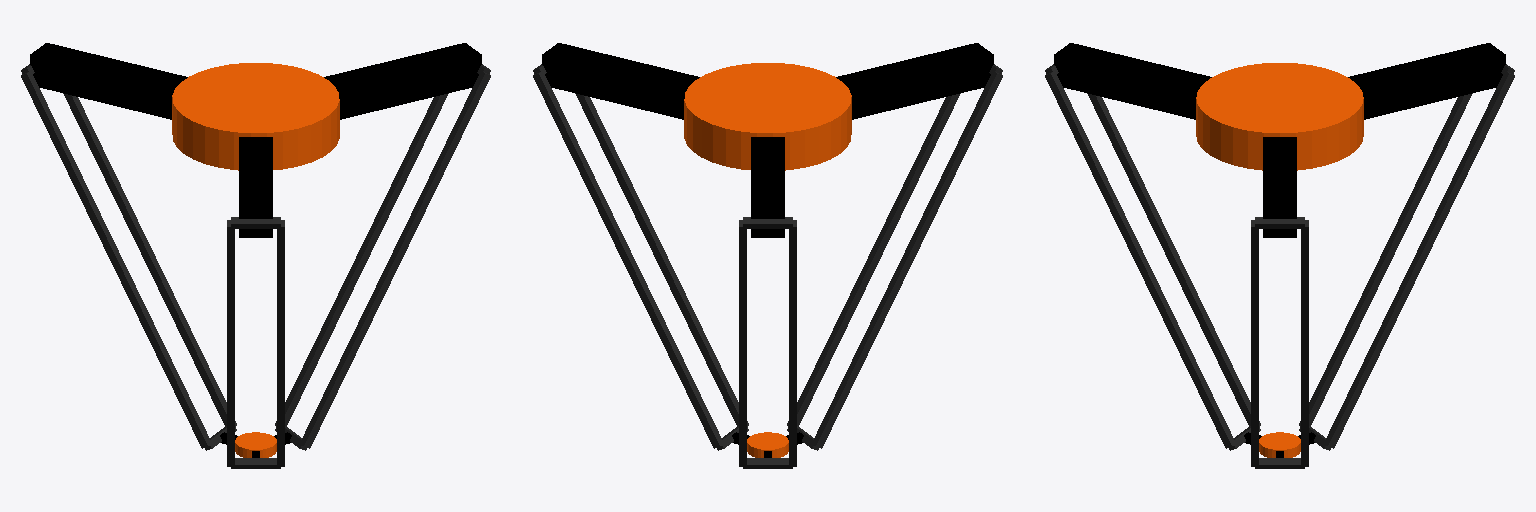
--- Render facts (derived) ---
The picture shows the robot from 3 angles, left to right: view 1: azimuth 30°, elevation 25°; view 2: azimuth 150°, elevation 25°; view 3: azimuth 270°, elevation 25°; orthographic projection.
Model delta with 29 links and 28 joints (3 revolute, 18 continuous, 7 fixed), rooted at world, posed all joints at 0.
Links seen in each view (by area): view 1: base_link, front_upper_link, left_upper_link, front_lower_right_link, left_lower_left_link, front_lower_left_link, left_lower_right_link, right_upper_link, right_lower_right_link, right_lower_left_link, end_link; view 2: base_link, front_upper_link, right_upper_link, front_lower_left_link, right_lower_right_link, front_lower_right_link, right_lower_left_link, left_upper_link, left_lower_right_link, left_lower_left_link, end_link; view 3: base_link, right_upper_link, left_upper_link, right_lower_left_link, left_lower_right_link, right_lower_right_link, left_lower_left_link, front_upper_link, front_lower_right_link, front_lower_left_link, end_link.
Boxes of the visible links, box(x1,y1,x2,y2) form: base_link: box(172, 63, 339, 170); front_upper_link: box(324, 43, 481, 119); left_upper_link: box(30, 43, 187, 119); front_lower_right_link: box(300, 71, 490, 448); left_lower_left_link: box(21, 71, 211, 448); front_lower_left_link: box(275, 93, 448, 426); left_lower_right_link: box(63, 93, 236, 426); right_upper_link: box(239, 137, 272, 237); right_lower_right_link: box(227, 220, 234, 466); right_lower_left_link: box(277, 220, 284, 466); end_link: box(235, 432, 276, 457); base_link: box(684, 63, 851, 170); front_upper_link: box(542, 43, 699, 119); right_upper_link: box(836, 43, 993, 119); front_lower_left_link: box(533, 71, 723, 448); right_lower_right_link: box(812, 71, 1002, 448); front_lower_right_link: box(575, 93, 748, 426); right_lower_left_link: box(787, 93, 960, 426); left_upper_link: box(751, 137, 784, 237); left_lower_right_link: box(739, 220, 746, 466); left_lower_left_link: box(789, 220, 796, 466); end_link: box(747, 432, 788, 457); base_link: box(1196, 63, 1363, 170); right_upper_link: box(1054, 43, 1211, 119); left_upper_link: box(1348, 43, 1505, 119); right_lower_left_link: box(1045, 71, 1235, 448); left_lower_right_link: box(1324, 71, 1514, 448); right_lower_right_link: box(1087, 93, 1260, 426); left_lower_left_link: box(1299, 93, 1472, 426); front_upper_link: box(1263, 137, 1296, 237); front_lower_right_link: box(1251, 220, 1258, 466); front_lower_left_link: box(1301, 220, 1308, 466); end_link: box(1259, 432, 1300, 457).
Size in the robot's own frame: 0.4893 by 0.5621 by 0.4648 metres.
Geometry: primitives only (box / cylinder / sphere), no mesh files.

robot.urdf — delta:
<?xml version="1.0" ?>
<!-- =================================================================================== -->
<!-- |    This document was autogenerated by xacro from delta.urdf.xacro               | -->
<!-- |    EDITING THIS FILE BY HAND IS NOT RECOMMENDED                                 | -->
<!-- =================================================================================== -->
<!-- Revolute-Revolute Manipulator -->
<robot name="delta">
  <!-- base and end links -->
  <!-- Upper link -->
  <physics type="ode">
    <max_step_size>0.001</max_step_size>
    <real_time_factor>0.1</real_time_factor>
    <real_time_update_rate>1000</real_time_update_rate>
    <gravity>0 0 -9.8</gravity>
  </physics>
  <gazebo>
    <plugin filename="libgazebo_ros_control.so" name="gazebo_ros_control">
      <robotNamespace/>
      <robotSimType>gazebo_ros_control/DefaultRobotHWSim</robotSimType>
      <legacyModeNS>true</legacyModeNS>
    </plugin>
  </gazebo>
  <gazebo reference="base_link">
    <material>Gazebo/Orange</material>
    <selfCollide>false</selfCollide>
  </gazebo>
  <gazebo reference="end_link">
    <material>Gazebo/Orange</material>
    <selfCollide>false</selfCollide>
  </gazebo>
  <transmission name="front_delta_arm_joint_trans">
    <type>transmission_interface/SimpleTransmission</type>
    <joint name="front_delta_arm_joint">
      <hardwareInterface>hardware_interface/EffortJointInterface</hardwareInterface>
    </joint>
    <actuator name="front_delta_arm_joint_motor">
      <hardwareInterface>hardware_interface/EffortJointInterface</hardwareInterface>
      <mechanicalReduction>1</mechanicalReduction>
    </actuator>
  </transmission>
  <transmission name="right_delta_arm_joint_trans">
    <type>transmission_interface/SimpleTransmission</type>
    <joint name="right_delta_arm_joint">
      <hardwareInterface>hardware_interface/EffortJointInterface</hardwareInterface>
    </joint>
    <actuator name="right_delta_arm_joint_motor">
      <hardwareInterface>hardware_interface/EffortJointInterface</hardwareInterface>
      <mechanicalReduction>1</mechanicalReduction>
    </actuator>
  </transmission>
  <transmission name="left_delta_arm_joint_trans">
    <type>transmission_interface/SimpleTransmission</type>
    <joint name="left_delta_arm_joint">
      <hardwareInterface>hardware_interface/EffortJointInterface</hardwareInterface>
    </joint>
    <actuator name="left_delta_arm_joint_motor">
      <hardwareInterface>hardware_interface/EffortJointInterface</hardwareInterface>
      <mechanicalReduction>1</mechanicalReduction>
    </actuator>
  </transmission>
  <material name="black">
    <color rgba="0.0 0.0 0.0 1.0"/>
  </material>
  <material name="blue">
    <color rgba="0.0 0.0 0.8 1.0"/>
  </material>
  <material name="green">
    <color rgba="0.0 0.8 0.0 1.0"/>
  </material>
  <material name="grey">
    <color rgba="0.2 0.2 0.2 1.0"/>
  </material>
  <material name="orange">
    <color rgba="1.0 0.4235294117647059 0.0392156862745098 1.0"/>
  </material>
  <material name="brown">
    <color rgba="0.8705882352941177 0.8117647058823529 0.7647058823529411 1.0"/>
  </material>
  <material name="red">
    <color rgba="0.8 0.0 0.0 1.0"/>
  </material>
  <material name="white">
    <color rgba="1.0 1.0 1.0 1.0"/>
  </material>
  <!-- Used for fixing robot to Gazebo 'base_link' -->
  <link name="world"/>
  <joint name="fixed" type="fixed">
    <parent link="world"/>
    <child link="base_link"/>
    <origin rpy="0 0 0" xyz="0 0 2"/>
  </joint>
  <link name="base_link">
    <collision>
      <origin rpy="0 0 0" xyz="0 0 0"/>
      <geometry>
        <cylinder length="0.05" radius="0.1"/>
      </geometry>
    </collision>
    <visual>
      <origin rpy="0 0 0" xyz="0 0 0"/>
      <geometry>
        <cylinder length="0.05" radius="0.1"/>
      </geometry>
      <material name="orange">
        <color rgba="1.0 0.4235294117647059 0.0392156862745098 1.0"/>
      </material>
    </visual>
    <inertial>
      <origin rpy="0 0 0" xyz="0 0 0"/>
      <mass value="1"/>
      <inertia ixx="0.1" ixy="0.0" ixz="0.0" iyy="0.1" iyz="0.0" izz="0.1"/>
    </inertial>
  </link>
  <link name="front_upper_link">
    <collision>
      <origin rpy="0 0 0" xyz="0.1 0 0"/>
      <geometry>
        <box size="0.2 0.04 0.04"/>
      </geometry>
    </collision>
    <visual>
      <origin rpy="0 0 0" xyz="0.1 0 0"/>
      <geometry>
        <box size="0.2 0.04 0.04"/>
      </geometry>
      <material name="black">
        <color rgba="0.0 0.0 0.0 1.0"/>
      </material>
    </visual>
    <inertial>
      <origin rpy="0 0 0" xyz="0 0 0.1"/>
      <mass value="0.02"/>
      <inertia ixx="5.333333333333334e-06" ixy="0.0" ixz="0.0" iyy="6.933333333333334e-05" iyz="0.0" izz="6.933333333333334e-05"/>
    </inertial>
  </link>
  <joint name="front_upper_joint" type="continuous">
    <parent link="front_upper_link"/>
    <child link="front_lower_top_link"/>
    <origin rpy="0 0.5235987755982988 0" xyz="0.2 0 0"/>
    <axis xyz="0 1 0"/>
  </joint>
  <link name="front_lower_top_link">
    <collision>
      <origin rpy="0 0 0" xyz="0 0 0"/>
      <geometry>
        <box size="0.01 0.06 0.01"/>
      </geometry>
    </collision>
    <visual>
      <origin rpy="0 0 0" xyz="0 0 0"/>
      <geometry>
        <box size="0.01 0.06 0.01"/>
      </geometry>
      <material name="grey">
        <color rgba="0.2 0.2 0.2 1.0"/>
      </material>
    </visual>
    <inertial>
      <origin rpy="0 0 0" xyz="0 0 0"/>
      <mass value="0.02"/>
      <inertia ixx="6.166666666666666e-06" ixy="0.0" ixz="0.0" iyy="3.3333333333333335e-07" iyz="0.0" izz="6.166666666666666e-06"/>
    </inertial>
  </link>
  <joint name="front_lower_top_rignt_joint" type="continuous">
    <parent link="front_lower_top_link"/>
    <child link="front_lower_right_link"/>
    <origin rpy="0 0 0" xyz="0 -0.03 0"/>
    <axis xyz="1 0 0"/>
  </joint>
  <link name="front_lower_right_link">
    <collision>
      <origin rpy="0 0 0" xyz="0 0 -0.25"/>
      <geometry>
        <box size="0.01 0.01 0.5"/>
      </geometry>
    </collision>
    <visual>
      <origin rpy="0 0 0" xyz="0 0 -0.25"/>
      <geometry>
        <box size="0.01 0.01 0.5"/>
      </geometry>
      <material name="grey">
        <color rgba="0.2 0.2 0.2 1.0"/>
      </material>
    </visual>
    <inertial>
      <origin rpy="0 0 0" xyz="0 0 -0.25"/>
      <mass value="0.02"/>
      <inertia ixx="0.00041683333333333335" ixy="0.0" ixz="0.0" iyy="0.00041683333333333335" iyz="0.0" izz="3.3333333333333335e-07"/>
    </inertial>
  </link>
  <joint name="front_lower_top_left_joint" type="continuous">
    <parent link="front_lower_top_link"/>
    <child link="front_lower_left_link"/>
    <origin rpy="0 0 0" xyz="0 0.03 0"/>
    <axis xyz="1 0 0"/>
  </joint>
  <link name="front_lower_left_link">
    <collision>
      <origin rpy="0 0 0" xyz="0 0 -0.25"/>
      <geometry>
        <box size="0.01 0.01 0.5"/>
      </geometry>
    </collision>
    <visual>
      <origin rpy="0 0 0" xyz="0 0 -0.25"/>
      <geometry>
        <box size="0.01 0.01 0.5"/>
      </geometry>
      <material name="grey">
        <color rgba="0.2 0.2 0.2 1.0"/>
      </material>
    </visual>
    <inertial>
      <origin rpy="0 0 0" xyz="0 0 -0.25"/>
      <mass value="0.02"/>
      <inertia ixx="0.00041683333333333335" ixy="0.0" ixz="0.0" iyy="0.00041683333333333335" iyz="0.0" izz="3.3333333333333335e-07"/>
    </inertial>
  </link>
  <joint name="front_lower_right_bottom_joint" type="continuous">
    <parent link="front_lower_right_link"/>
    <child link="front_lower_bottom_link"/>
    <origin rpy="0 0 0" xyz="0 0 -0.5"/>
    <axis xyz="1 0 0"/>
  </joint>
  <link name="front_lower_bottom_link">
    <collision>
      <origin rpy="0 0 0" xyz="0 0.03 0"/>
      <geometry>
        <box size="0.01 0.06 0.01"/>
      </geometry>
    </collision>
    <visual>
      <origin rpy="0 0 0" xyz="0 0.03 0"/>
      <geometry>
        <box size="0.01 0.06 0.01"/>
      </geometry>
      <material name="grey">
        <color rgba="0.2 0.2 0.2 1.0"/>
      </material>
    </visual>
    <inertial>
      <origin rpy="0 0 0" xyz="0 0.03 0"/>
      <mass value="0.02"/>
      <inertia ixx="6.166666666666666e-06" ixy="0.0" ixz="0.0" iyy="6.166666666666666e-06" iyz="0.0" izz="3.3333333333333335e-07"/>
    </inertial>
  </link>
  <joint name="front_lower_bottom_end_joint" type="continuous">
    <parent link="front_lower_bottom_link"/>
    <child link="front_lower_end_link"/>
    <origin rpy="0 -0.5235987755982988 0" xyz="0 0.03 0"/>
    <axis xyz="0 1 0"/>
  </joint>
  <link name="front_lower_end_link">
    <collision>
      <origin rpy="0 0 0" xyz="-0.015 0 0"/>
      <geometry>
        <box size="0.03 0.01 0.01"/>
      </geometry>
    </collision>
    <visual>
      <origin rpy="0 0 0" xyz="-0.015 0 0"/>
      <geometry>
        <box size="0.03 0.01 0.01"/>
      </geometry>
      <material name="black">
        <color rgba="0.0 0.0 0.0 1.0"/>
      </material>
    </visual>
    <inertial>
      <origin rpy="0 0 0" xyz="-0.015 0 0"/>
      <mass value="0.02"/>
      <inertia ixx="3.3333333333333335e-07" ixy="0.0" ixz="0.0" iyy="1.6666666666666669e-06" iyz="0.0" izz="1.6666666666666669e-06"/>
    </inertial>
  </link>
  <joint name="front_lower_bottom_virtual_joint" type="continuous">
    <parent link="front_lower_bottom_link"/>
    <child link="front_lower_bottom_virtual_link"/>
    <origin rpy="0 0 0" xyz="0 0.06 0"/>
    <axis xyz="1 0 0"/>
  </joint>
  <link name="front_lower_bottom_virtual_link">
    <inertial>
      <origin rpy="0 0 0" xyz="0 0 0"/>
      <mass value="0.01"/>
      <inertia ixx="0.001" ixy="0.0" ixz="0.0" iyy="0.001" iyz="0.0" izz="0.001"/>
    </inertial>
  </link>
  <joint name="front_lower_left_virtual_joint" type="fixed">
    <parent link="front_lower_left_link"/>
    <child link="front_lower_left_virtual_link"/>
    <origin rpy="0 0 0" xyz="0 0 -0.5"/>
  </joint>
  <link name="front_lower_left_virtual_link">
    <inertial>
      <origin rpy="0 0 0" xyz="0 0 0"/>
      <mass value="0.01"/>
      <inertia ixx="0.001" ixy="0.0" ixz="0.0" iyy="0.001" iyz="0.0" izz="0.001"/>
    </inertial>
  </link>
  <gazebo>
    <joint name="front_lower_left_bottom_joint" type="fixed">
      <parent>front_lower_left_virtual_link</parent>
      <child>front_lower_bottom_virtual_link</child>
      <pose> 0 0 0 0 0 0 </pose>
    </joint>
  </gazebo>
  <gazebo reference="front_upper_link">
    <material>Gazebo/Black</material>
    <selfCollide>false</selfCollide>
  </gazebo>
  <gazebo reference="front_lower_top_link">
    <material>Gazebo/Grey</material>
    <selfCollide>false</selfCollide>
  </gazebo>
  <gazebo reference="front_lower_right_link">
    <material>Gazebo/Grey</material>
    <selfCollide>false</selfCollide>
  </gazebo>
  <gazebo reference="front_lower_left_link">
    <material>Gazebo/Grey</material>
    <selfCollide>false</selfCollide>
  </gazebo>
  <gazebo reference="front_lower_bottom_link">
    <material>Gazebo/Grey</material>
    <selfCollide>false</selfCollide>
  </gazebo>
  <gazebo reference="front_lower_end_link">
    <material>Gazebo/Black</material>
    <selfCollide>false</selfCollide>
  </gazebo>
  <transmission name="front_upper_joint_trans">
    <type>transmission_interface/SimpleTransmission</type>
    <joint name="front_upper_joint">
      <hardwareInterface>hardware_interface/EffortJointInterface</hardwareInterface>
    </joint>
    <actuator name="front_upper_joint_motor">
      <hardwareInterface>hardware_interface/EffortJointInterface</hardwareInterface>
      <mechanicalReduction>1</mechanicalReduction>
    </actuator>
  </transmission>
  <transmission name="front_lower_top_rignt_joint_trans">
    <type>transmission_interface/SimpleTransmission</type>
    <joint name="front_lower_top_rignt_joint">
      <hardwareInterface>hardware_interface/EffortJointInterface</hardwareInterface>
    </joint>
    <actuator name="front_lower_top_rignt_joint_motor">
      <hardwareInterface>hardware_interface/EffortJointInterface</hardwareInterface>
      <mechanicalReduction>1</mechanicalReduction>
    </actuator>
  </transmission>
  <transmission name="front_lower_top_left_joint_trans">
    <type>transmission_interface/SimpleTransmission</type>
    <joint name="front_lower_top_left_joint">
      <hardwareInterface>hardware_interface/EffortJointInterface</hardwareInterface>
    </joint>
    <actuator name="front_lower_top_left_joint_motor">
      <hardwareInterface>hardware_interface/EffortJointInterface</hardwareInterface>
      <mechanicalReduction>1</mechanicalReduction>
    </actuator>
  </transmission>
  <transmission name="front_lower_right_bottom_joint_trans">
    <type>transmission_interface/SimpleTransmission</type>
    <joint name="front_lower_right_bottom_joint">
      <hardwareInterface>hardware_interface/EffortJointInterface</hardwareInterface>
    </joint>
    <actuator name="front_lower_right_bottom_joint_motor">
      <hardwareInterface>hardware_interface/EffortJointInterface</hardwareInterface>
      <mechanicalReduction>1</mechanicalReduction>
    </actuator>
  </transmission>
  <transmission name="front_lower_bottom_end_joint_trans">
    <type>transmission_interface/SimpleTransmission</type>
    <joint name="front_lower_bottom_end_joint">
      <hardwareInterface>hardware_interface/EffortJointInterface</hardwareInterface>
    </joint>
    <actuator name="front_lower_bottom_end_joint_motor">
      <hardwareInterface>hardware_interface/EffortJointInterface</hardwareInterface>
      <mechanicalReduction>1</mechanicalReduction>
    </actuator>
  </transmission>
  <transmission name="front_lower_bottom_virtual_joint_trans">
    <type>transmission_interface/SimpleTransmission</type>
    <joint name="front_lower_bottom_virtual_joint">
      <hardwareInterface>hardware_interface/EffortJointInterface</hardwareInterface>
    </joint>
    <actuator name="front_lower_bottom_virtual_joint_motor">
      <hardwareInterface>hardware_interface/EffortJointInterface</hardwareInterface>
      <mechanicalReduction>1</mechanicalReduction>
    </actuator>
  </transmission>
  <joint name="front_delta_arm_joint" type="revolute">
    <parent link="base_link"/>
    <child link="front_upper_link"/>
    <origin rpy="0 0 0" xyz="0.1 0 0"/>
    <axis xyz="0 1 0"/>
    <dynamics damping="0.7"/>
    <limit effort="6" lower="-1.0471975511965976" upper="1.0471975511965976" velocity="8"/>
  </joint>
  <link name="right_upper_link">
    <collision>
      <origin rpy="0 0 0" xyz="0.1 0 0"/>
      <geometry>
        <box size="0.2 0.04 0.04"/>
      </geometry>
    </collision>
    <visual>
      <origin rpy="0 0 0" xyz="0.1 0 0"/>
      <geometry>
        <box size="0.2 0.04 0.04"/>
      </geometry>
      <material name="black">
        <color rgba="0.0 0.0 0.0 1.0"/>
      </material>
    </visual>
    <inertial>
      <origin rpy="0 0 0" xyz="0 0 0.1"/>
      <mass value="0.02"/>
      <inertia ixx="5.333333333333334e-06" ixy="0.0" ixz="0.0" iyy="6.933333333333334e-05" iyz="0.0" izz="6.933333333333334e-05"/>
    </inertial>
  </link>
  <joint name="right_upper_joint" type="continuous">
    <parent link="right_upper_link"/>
    <child link="right_lower_top_link"/>
    <origin rpy="0 0.5235987755982988 0" xyz="0.2 0 0"/>
    <axis xyz="0 1 0"/>
  </joint>
  <link name="right_lower_top_link">
    <collision>
      <origin rpy="0 0 0" xyz="0 0 0"/>
      <geometry>
        <box size="0.01 0.06 0.01"/>
      </geometry>
    </collision>
    <visual>
      <origin rpy="0 0 0" xyz="0 0 0"/>
      <geometry>
        <box size="0.01 0.06 0.01"/>
      </geometry>
      <material name="grey">
        <color rgba="0.2 0.2 0.2 1.0"/>
      </material>
    </visual>
    <inertial>
      <origin rpy="0 0 0" xyz="0 0 0"/>
      <mass value="0.02"/>
      <inertia ixx="6.166666666666666e-06" ixy="0.0" ixz="0.0" iyy="3.3333333333333335e-07" iyz="0.0" izz="6.166666666666666e-06"/>
    </inertial>
  </link>
  <joint name="right_lower_top_rignt_joint" type="continuous">
    <parent link="right_lower_top_link"/>
    <child link="right_lower_right_link"/>
    <origin rpy="0 0 0" xyz="0 -0.03 0"/>
    <axis xyz="1 0 0"/>
  </joint>
  <link name="right_lower_right_link">
    <collision>
      <origin rpy="0 0 0" xyz="0 0 -0.25"/>
      <geometry>
        <box size="0.01 0.01 0.5"/>
      </geometry>
    </collision>
    <visual>
      <origin rpy="0 0 0" xyz="0 0 -0.25"/>
      <geometry>
        <box size="0.01 0.01 0.5"/>
      </geometry>
      <material name="grey">
        <color rgba="0.2 0.2 0.2 1.0"/>
      </material>
    </visual>
    <inertial>
      <origin rpy="0 0 0" xyz="0 0 -0.25"/>
      <mass value="0.02"/>
      <inertia ixx="0.00041683333333333335" ixy="0.0" ixz="0.0" iyy="0.00041683333333333335" iyz="0.0" izz="3.3333333333333335e-07"/>
    </inertial>
  </link>
  <joint name="right_lower_top_left_joint" type="continuous">
    <parent link="right_lower_top_link"/>
    <child link="right_lower_left_link"/>
    <origin rpy="0 0 0" xyz="0 0.03 0"/>
    <axis xyz="1 0 0"/>
  </joint>
  <link name="right_lower_left_link">
    <collision>
      <origin rpy="0 0 0" xyz="0 0 -0.25"/>
      <geometry>
        <box size="0.01 0.01 0.5"/>
      </geometry>
    </collision>
    <visual>
      <origin rpy="0 0 0" xyz="0 0 -0.25"/>
      <geometry>
        <box size="0.01 0.01 0.5"/>
      </geometry>
      <material name="grey">
        <color rgba="0.2 0.2 0.2 1.0"/>
      </material>
    </visual>
    <inertial>
      <origin rpy="0 0 0" xyz="0 0 -0.25"/>
      <mass value="0.02"/>
      <inertia ixx="0.00041683333333333335" ixy="0.0" ixz="0.0" iyy="0.00041683333333333335" iyz="0.0" izz="3.3333333333333335e-07"/>
    </inertial>
  </link>
  <joint name="right_lower_right_bottom_joint" type="continuous">
    <parent link="right_lower_right_link"/>
    <child link="right_lower_bottom_link"/>
    <origin rpy="0 0 0" xyz="0 0 -0.5"/>
    <axis xyz="1 0 0"/>
  </joint>
  <link name="right_lower_bottom_link">
    <collision>
      <origin rpy="0 0 0" xyz="0 0.03 0"/>
      <geometry>
        <box size="0.01 0.06 0.01"/>
      </geometry>
    </collision>
    <visual>
      <origin rpy="0 0 0" xyz="0 0.03 0"/>
      <geometry>
        <box size="0.01 0.06 0.01"/>
      </geometry>
      <material name="grey">
        <color rgba="0.2 0.2 0.2 1.0"/>
      </material>
    </visual>
    <inertial>
      <origin rpy="0 0 0" xyz="0 0.03 0"/>
      <mass value="0.02"/>
      <inertia ixx="6.166666666666666e-06" ixy="0.0" ixz="0.0" iyy="6.166666666666666e-06" iyz="0.0" izz="3.3333333333333335e-07"/>
    </inertial>
  </link>
  <joint name="right_lower_bottom_end_joint" type="continuous">
    <parent link="right_lower_bottom_link"/>
    <child link="right_lower_end_link"/>
    <origin rpy="0 -0.5235987755982988 0" xyz="0 0.03 0"/>
    <axis xyz="0 1 0"/>
  </joint>
  <link name="right_lower_end_link">
    <collision>
      <origin rpy="0 0 0" xyz="-0.015 0 0"/>
      <geometry>
        <box size="0.03 0.01 0.01"/>
      </geometry>
    </collision>
    <visual>
      <origin rpy="0 0 0" xyz="-0.015 0 0"/>
      <geometry>
        <box size="0.03 0.01 0.01"/>
      </geometry>
      <material name="black">
        <color rgba="0.0 0.0 0.0 1.0"/>
      </material>
    </visual>
    <inertial>
      <origin rpy="0 0 0" xyz="-0.015 0 0"/>
      <mass value="0.02"/>
      <inertia ixx="3.3333333333333335e-07" ixy="0.0" ixz="0.0" iyy="1.6666666666666669e-06" iyz="0.0" izz="1.6666666666666669e-06"/>
    </inertial>
  </link>
  <joint name="right_lower_bottom_virtual_joint" type="continuous">
    <parent link="right_lower_bottom_link"/>
    <child link="right_lower_bottom_virtual_link"/>
    <origin rpy="0 0 0" xyz="0 0.06 0"/>
    <axis xyz="1 0 0"/>
  </joint>
  <link name="right_lower_bottom_virtual_link">
    <inertial>
      <origin rpy="0 0 0" xyz="0 0 0"/>
      <mass value="0.01"/>
      <inertia ixx="0.001" ixy="0.0" ixz="0.0" iyy="0.001" iyz="0.0" izz="0.001"/>
    </inertial>
  </link>
  <joint name="right_lower_left_virtual_joint" type="fixed">
    <parent link="right_lower_left_link"/>
    <child link="right_lower_left_virtual_link"/>
    <origin rpy="0 0 0" xyz="0 0 -0.5"/>
  </joint>
  <link name="right_lower_left_virtual_link">
    <inertial>
      <origin rpy="0 0 0" xyz="0 0 0"/>
      <mass value="0.01"/>
      <inertia ixx="0.001" ixy="0.0" ixz="0.0" iyy="0.001" iyz="0.0" izz="0.001"/>
    </inertial>
  </link>
  <gazebo>
    <joint name="right_lower_left_bottom_joint" type="fixed">
      <parent>right_lower_left_virtual_link</parent>
      <child>right_lower_bottom_virtual_link</child>
      <pose> 0 0 0 0 0 0 </pose>
    </joint>
  </gazebo>
  <gazebo reference="right_upper_link">
    <material>Gazebo/Black</material>
    <selfCollide>false</selfCollide>
  </gazebo>
  <gazebo reference="right_lower_top_link">
    <material>Gazebo/Grey</material>
    <selfCollide>false</selfCollide>
  </gazebo>
  <gazebo reference="right_lower_right_link">
    <material>Gazebo/Grey</material>
    <selfCollide>false</selfCollide>
  </gazebo>
  <gazebo reference="right_lower_left_link">
    <material>Gazebo/Grey</material>
    <selfCollide>false</selfCollide>
  </gazebo>
  <gazebo reference="right_lower_bottom_link">
    <material>Gazebo/Grey</material>
    <selfCollide>false</selfCollide>
  </gazebo>
  <gazebo reference="right_lower_end_link">
    <material>Gazebo/Black</material>
    <selfCollide>false</selfCollide>
  </gazebo>
  <transmission name="right_upper_joint_trans">
    <type>transmission_interface/SimpleTransmission</type>
    <joint name="right_upper_joint">
      <hardwareInterface>hardware_interface/EffortJointInterface</hardwareInterface>
    </joint>
    <actuator name="right_upper_joint_motor">
      <hardwareInterface>hardware_interface/EffortJointInterface</hardwareInterface>
      <mechanicalReduction>1</mechanicalReduction>
    </actuator>
  </transmission>
  <transmission name="right_lower_top_rignt_joint_trans">
    <type>transmission_interface/SimpleTransmission</type>
    <joint name="right_lower_top_rignt_joint">
      <hardwareInterface>hardware_interface/EffortJointInterface</hardwareInterface>
    </joint>
    <actuator name="right_lower_top_rignt_joint_motor">
      <hardwareInterface>hardware_interface/EffortJointInterface</hardwareInterface>
      <mechanicalReduction>1</mechanicalReduction>
    </actuator>
  </transmission>
  <transmission name="right_lower_top_left_joint_trans">
    <type>transmission_interface/SimpleTransmission</type>
    <joint name="right_lower_top_left_joint">
      <hardwareInterface>hardware_interface/EffortJointInterface</hardwareInterface>
    </joint>
    <actuator name="right_lower_top_left_joint_motor">
      <hardwareInterface>hardware_interface/EffortJointInterface</hardwareInterface>
      <mechanicalReduction>1</mechanicalReduction>
    </actuator>
  </transmission>
  <transmission name="right_lower_right_bottom_joint_trans">
    <type>transmission_interface/SimpleTransmission</type>
    <joint name="right_lower_right_bottom_joint">
      <hardwareInterface>hardware_interface/EffortJointInterface</hardwareInterface>
    </joint>
    <actuator name="right_lower_right_bottom_joint_motor">
      <hardwareInterface>hardware_interface/EffortJointInterface</hardwareInterface>
      <mechanicalReduction>1</mechanicalReduction>
    </actuator>
  </transmission>
  <transmission name="right_lower_bottom_end_joint_trans">
    <type>transmission_interface/SimpleTransmission</type>
    <joint name="right_lower_bottom_end_joint">
      <hardwareInterface>hardware_interface/EffortJointInterface</hardwareInterface>
    </joint>
    <actuator name="right_lower_bottom_end_joint_motor">
      <hardwareInterface>hardware_interface/EffortJointInterface</hardwareInterface>
      <mechanicalReduction>1</mechanicalReduction>
    </actuator>
  </transmission>
  <transmission name="right_lower_bottom_virtual_joint_trans">
    <type>transmission_interface/SimpleTransmission</type>
    <joint name="right_lower_bottom_virtual_joint">
      <hardwareInterface>hardware_interface/EffortJointInterface</hardwareInterface>
    </joint>
    <actuator name="right_lower_bottom_virtual_joint_motor">
      <hardwareInterface>hardware_interface/EffortJointInterface</hardwareInterface>
      <mechanicalReduction>1</mechanicalReduction>
    </actuator>
  </transmission>
  <joint name="right_delta_arm_joint" type="revolute">
    <parent link="base_link"/>
    <child link="right_upper_link"/>
    <origin rpy="0 0 -2.0943951023931953" xyz="-0.05 -0.0866 0"/>
    <axis xyz="0 1 0"/>
    <dynamics damping="0.7"/>
    <limit effort="6" lower="-1.0471975511965976" upper="1.0471975511965976" velocity="8"/>
  </joint>
  <link name="left_upper_link">
    <collision>
      <origin rpy="0 0 0" xyz="0.1 0 0"/>
      <geometry>
        <box size="0.2 0.04 0.04"/>
      </geometry>
    </collision>
    <visual>
      <origin rpy="0 0 0" xyz="0.1 0 0"/>
      <geometry>
        <box size="0.2 0.04 0.04"/>
      </geometry>
      <material name="black">
        <color rgba="0.0 0.0 0.0 1.0"/>
      </material>
    </visual>
    <inertial>
      <origin rpy="0 0 0" xyz="0 0 0.1"/>
      <mass value="0.02"/>
      <inertia ixx="5.333333333333334e-06" ixy="0.0" ixz="0.0" iyy="6.933333333333334e-05" iyz="0.0" izz="6.933333333333334e-05"/>
    </inertial>
  </link>
  <joint name="left_upper_joint" type="continuous">
    <parent link="left_upper_link"/>
    <child link="left_lower_top_link"/>
    <origin rpy="0 0.5235987755982988 0" xyz="0.2 0 0"/>
    <axis xyz="0 1 0"/>
  </joint>
  <link name="left_lower_top_link">
    <collision>
      <origin rpy="0 0 0" xyz="0 0 0"/>
      <geometry>
        <box size="0.01 0.06 0.01"/>
      </geometry>
    </collision>
    <visual>
      <origin rpy="0 0 0" xyz="0 0 0"/>
      <geometry>
        <box size="0.01 0.06 0.01"/>
      </geometry>
      <material name="grey">
        <color rgba="0.2 0.2 0.2 1.0"/>
      </material>
    </visual>
    <inertial>
      <origin rpy="0 0 0" xyz="0 0 0"/>
      <mass value="0.02"/>
      <inertia ixx="6.166666666666666e-06" ixy="0.0" ixz="0.0" iyy="3.3333333333333335e-07" iyz="0.0" izz="6.166666666666666e-06"/>
    </inertial>
  </link>
  <joint name="left_lower_top_rignt_joint" type="continuous">
    <parent link="left_lower_top_link"/>
    <child link="left_lower_right_link"/>
    <origin rpy="0 0 0" xyz="0 -0.03 0"/>
    <axis xyz="1 0 0"/>
  </joint>
  <link name="left_lower_right_link">
    <collision>
      <origin rpy="0 0 0" xyz="0 0 -0.25"/>
      <geometry>
        <box size="0.01 0.01 0.5"/>
      </geometry>
    </collision>
    <visual>
      <origin rpy="0 0 0" xyz="0 0 -0.25"/>
      <geometry>
        <box size="0.01 0.01 0.5"/>
      </geometry>
      <material name="grey">
        <color rgba="0.2 0.2 0.2 1.0"/>
      </material>
    </visual>
    <inertial>
      <origin rpy="0 0 0" xyz="0 0 -0.25"/>
      <mass value="0.02"/>
      <inertia ixx="0.00041683333333333335" ixy="0.0" ixz="0.0" iyy="0.00041683333333333335" iyz="0.0" izz="3.3333333333333335e-07"/>
    </inertial>
  </link>
  <joint name="left_lower_top_left_joint" type="continuous">
    <parent link="left_lower_top_link"/>
    <child link="left_lower_left_link"/>
    <origin rpy="0 0 0" xyz="0 0.03 0"/>
    <axis xyz="1 0 0"/>
  </joint>
  <link name="left_lower_left_link">
    <collision>
      <origin rpy="0 0 0" xyz="0 0 -0.25"/>
      <geometry>
        <box size="0.01 0.01 0.5"/>
      </geometry>
    </collision>
    <visual>
      <origin rpy="0 0 0" xyz="0 0 -0.25"/>
      <geometry>
        <box size="0.01 0.01 0.5"/>
      </geometry>
      <material name="grey">
        <color rgba="0.2 0.2 0.2 1.0"/>
      </material>
    </visual>
    <inertial>
      <origin rpy="0 0 0" xyz="0 0 -0.25"/>
      <mass value="0.02"/>
      <inertia ixx="0.00041683333333333335" ixy="0.0" ixz="0.0" iyy="0.00041683333333333335" iyz="0.0" izz="3.3333333333333335e-07"/>
    </inertial>
  </link>
  <joint name="left_lower_right_bottom_joint" type="continuous">
    <parent link="left_lower_right_link"/>
    <child link="left_lower_bottom_link"/>
    <origin rpy="0 0 0" xyz="0 0 -0.5"/>
    <axis xyz="1 0 0"/>
  </joint>
  <link name="left_lower_bottom_link">
    <collision>
      <origin rpy="0 0 0" xyz="0 0.03 0"/>
      <geometry>
        <box size="0.01 0.06 0.01"/>
      </geometry>
    </collision>
    <visual>
      <origin rpy="0 0 0" xyz="0 0.03 0"/>
      <geometry>
        <box size="0.01 0.06 0.01"/>
      </geometry>
      <material name="grey">
        <color rgba="0.2 0.2 0.2 1.0"/>
      </material>
    </visual>
    <inertial>
      <origin rpy="0 0 0" xyz="0 0.03 0"/>
      <mass value="0.02"/>
      <inertia ixx="6.166666666666666e-06" ixy="0.0" ixz="0.0" iyy="6.166666666666666e-06" iyz="0.0" izz="3.3333333333333335e-07"/>
    </inertial>
  </link>
  <joint name="left_lower_bottom_end_joint" type="continuous">
    <parent link="left_lower_bottom_link"/>
    <child link="left_lower_end_link"/>
    <origin rpy="0 -0.5235987755982988 0" xyz="0 0.03 0"/>
    <axis xyz="0 1 0"/>
  </joint>
  <link name="left_lower_end_link">
    <collision>
      <origin rpy="0 0 0" xyz="-0.015 0 0"/>
      <geometry>
        <box size="0.03 0.01 0.01"/>
      </geometry>
    </collision>
    <visual>
      <origin rpy="0 0 0" xyz="-0.015 0 0"/>
      <geometry>
        <box size="0.03 0.01 0.01"/>
      </geometry>
      <material name="black">
        <color rgba="0.0 0.0 0.0 1.0"/>
      </material>
    </visual>
    <inertial>
      <origin rpy="0 0 0" xyz="-0.015 0 0"/>
      <mass value="0.02"/>
      <inertia ixx="3.3333333333333335e-07" ixy="0.0" ixz="0.0" iyy="1.6666666666666669e-06" iyz="0.0" izz="1.6666666666666669e-06"/>
    </inertial>
  </link>
  <joint name="left_lower_bottom_virtual_joint" type="continuous">
    <parent link="left_lower_bottom_link"/>
    <child link="left_lower_bottom_virtual_link"/>
    <origin rpy="0 0 0" xyz="0 0.06 0"/>
    <axis xyz="1 0 0"/>
  </joint>
  <link name="left_lower_bottom_virtual_link">
    <inertial>
      <origin rpy="0 0 0" xyz="0 0 0"/>
      <mass value="0.01"/>
      <inertia ixx="0.001" ixy="0.0" ixz="0.0" iyy="0.001" iyz="0.0" izz="0.001"/>
    </inertial>
  </link>
  <joint name="left_lower_left_virtual_joint" type="fixed">
    <parent link="left_lower_left_link"/>
    <child link="left_lower_left_virtual_link"/>
    <origin rpy="0 0 0" xyz="0 0 -0.5"/>
  </joint>
  <link name="left_lower_left_virtual_link">
    <inertial>
      <origin rpy="0 0 0" xyz="0 0 0"/>
      <mass value="0.01"/>
      <inertia ixx="0.001" ixy="0.0" ixz="0.0" iyy="0.001" iyz="0.0" izz="0.001"/>
    </inertial>
  </link>
  <gazebo>
    <joint name="left_lower_left_bottom_joint" type="fixed">
      <parent>left_lower_left_virtual_link</parent>
      <child>left_lower_bottom_virtual_link</child>
      <pose> 0 0 0 0 0 0 </pose>
    </joint>
  </gazebo>
  <gazebo reference="left_upper_link">
    <material>Gazebo/Black</material>
    <selfCollide>false</selfCollide>
  </gazebo>
  <gazebo reference="left_lower_top_link">
    <material>Gazebo/Grey</material>
    <selfCollide>false</selfCollide>
  </gazebo>
  <gazebo reference="left_lower_right_link">
    <material>Gazebo/Grey</material>
    <selfCollide>false</selfCollide>
  </gazebo>
  <gazebo reference="left_lower_left_link">
    <material>Gazebo/Grey</material>
    <selfCollide>false</selfCollide>
  </gazebo>
  <gazebo reference="left_lower_bottom_link">
    <material>Gazebo/Grey</material>
    <selfCollide>false</selfCollide>
  </gazebo>
  <gazebo reference="left_lower_end_link">
    <material>Gazebo/Black</material>
    <selfCollide>false</selfCollide>
  </gazebo>
  <transmission name="left_upper_joint_trans">
    <type>transmission_interface/SimpleTransmission</type>
    <joint name="left_upper_joint">
      <hardwareInterface>hardware_interface/EffortJointInterface</hardwareInterface>
    </joint>
    <actuator name="left_upper_joint_motor">
      <hardwareInterface>hardware_interface/EffortJointInterface</hardwareInterface>
      <mechanicalReduction>1</mechanicalReduction>
    </actuator>
  </transmission>
  <transmission name="left_lower_top_rignt_joint_trans">
    <type>transmission_interface/SimpleTransmission</type>
    <joint name="left_lower_top_rignt_joint">
      <hardwareInterface>hardware_interface/EffortJointInterface</hardwareInterface>
    </joint>
    <actuator name="left_lower_top_rignt_joint_motor">
      <hardwareInterface>hardware_interface/EffortJointInterface</hardwareInterface>
      <mechanicalReduction>1</mechanicalReduction>
    </actuator>
  </transmission>
  <transmission name="left_lower_top_left_joint_trans">
    <type>transmission_interface/SimpleTransmission</type>
    <joint name="left_lower_top_left_joint">
      <hardwareInterface>hardware_interface/EffortJointInterface</hardwareInterface>
    </joint>
    <actuator name="left_lower_top_left_joint_motor">
      <hardwareInterface>hardware_interface/EffortJointInterface</hardwareInterface>
      <mechanicalReduction>1</mechanicalReduction>
    </actuator>
  </transmission>
  <transmission name="left_lower_right_bottom_joint_trans">
    <type>transmission_interface/SimpleTransmission</type>
    <joint name="left_lower_right_bottom_joint">
      <hardwareInterface>hardware_interface/EffortJointInterface</hardwareInterface>
    </joint>
    <actuator name="left_lower_right_bottom_joint_motor">
      <hardwareInterface>hardware_interface/EffortJointInterface</hardwareInterface>
      <mechanicalReduction>1</mechanicalReduction>
    </actuator>
  </transmission>
  <transmission name="left_lower_bottom_end_joint_trans">
    <type>transmission_interface/SimpleTransmission</type>
    <joint name="left_lower_bottom_end_joint">
      <hardwareInterface>hardware_interface/EffortJointInterface</hardwareInterface>
    </joint>
    <actuator name="left_lower_bottom_end_joint_motor">
      <hardwareInterface>hardware_interface/EffortJointInterface</hardwareInterface>
      <mechanicalReduction>1</mechanicalReduction>
    </actuator>
  </transmission>
  <transmission name="left_lower_bottom_virtual_joint_trans">
    <type>transmission_interface/SimpleTransmission</type>
    <joint name="left_lower_bottom_virtual_joint">
      <hardwareInterface>hardware_interface/EffortJointInterface</hardwareInterface>
    </joint>
    <actuator name="left_lower_bottom_virtual_joint_motor">
      <hardwareInterface>hardware_interface/EffortJointInterface</hardwareInterface>
      <mechanicalReduction>1</mechanicalReduction>
    </actuator>
  </transmission>
  <joint name="left_delta_arm_joint" type="revolute">
    <parent link="base_link"/>
    <child link="left_upper_link"/>
    <origin rpy="0 0 2.0943951023931953" xyz="-0.05 0.0866 0"/>
    <axis xyz="0 1 0"/>
    <dynamics damping="0.7"/>
    <limit effort="6" lower="-1.0471975511965976" upper="1.0471975511965976" velocity="8"/>
  </joint>
  <link name="end_link">
    <collision>
      <origin rpy="0 0 0" xyz="0 0 0"/>
      <geometry>
        <cylinder length="0.0125" radius="0.025"/>
      </geometry>
    </collision>
    <visual>
      <origin rpy="0 0 0" xyz="0 0 0"/>
      <geometry>
        <cylinder length="0.0125" radius="0.025"/>
      </geometry>
      <material name="orange">
        <color rgba="1.0 0.4235294117647059 0.0392156862745098 1.0"/>
      </material>
    </visual>
    <inertial>
      <origin rpy="0 0 0" xyz="0 0 0"/>
      <mass value="0.1"/>
      <inertia ixx="0.001" ixy="0.0" ixz="0.0" iyy="0.001" iyz="0.0" izz="0.001"/>
    </inertial>
  </link>
  <joint name="front_end_joint" type="fixed">
    <parent link="front_lower_end_link"/>
    <child link="end_link"/>
    <origin rpy="0 0 0" xyz="-0.05 0 0"/>
  </joint>
  <link name="right_end_virtual_link">
    <inertial>
      <origin rpy="0 0 0" xyz="0 0 0"/>
      <mass value="0.001"/>
      <inertia ixx="0.0001" ixy="0.0" ixz="0.0" iyy="0.0001" iyz="0.0" izz="0.0001"/>
    </inertial>
  </link>
  <joint name="right_end_virtual_joint" type="fixed">
    <parent link="end_link"/>
    <child link="right_end_virtual_link"/>
    <origin rpy="0 0 -2.0943951023931953" xyz="-0.025 -0.0433 0"/>
  </joint>
  <link name="left_end_virtual_link">
    <inertial>
      <origin rpy="0 0 0" xyz="0 0 0"/>
      <mass value="0.001"/>
      <inertia ixx="0.0001" ixy="0.0" ixz="0.0" iyy="0.0001" iyz="0.0" izz="0.0001"/>
    </inertial>
  </link>
  <joint name="left_end_virtual_joint" type="fixed">
    <parent link="end_link"/>
    <child link="left_end_virtual_link"/>
    <origin rpy="0 0 2.0943951023931953" xyz="-0.025 0.0433 0"/>
  </joint>
  <gazebo>
    <joint name="right_end_joint" type="fixed">
      <parent>right_lower_end_link</parent>
      <child>right_end_virtual_link</child>
      <pose> 0 0 0 0 0 0 </pose>
    </joint>
    <joint name="left_end_joint" type="fixed">
      <parent>left_lower_end_link</parent>
      <child>left_end_virtual_link</child>
      <pose> 0 0 0 0 0 0 </pose>
    </joint>
  </gazebo>
</robot>
